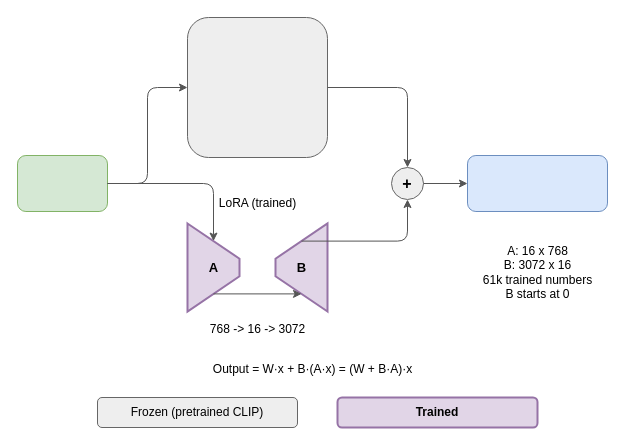
The diagram is 625 pixels wide and 446 high, and some of its shapes have lost their labels. Here are the shapes that lost their labels. From the top down, the centre of each, then its label:
(257,87): W (frozen) 3072 x 768 2.36M numbers
(62,183): Input 768 numbers
(537,183): Output 3072 numbers
